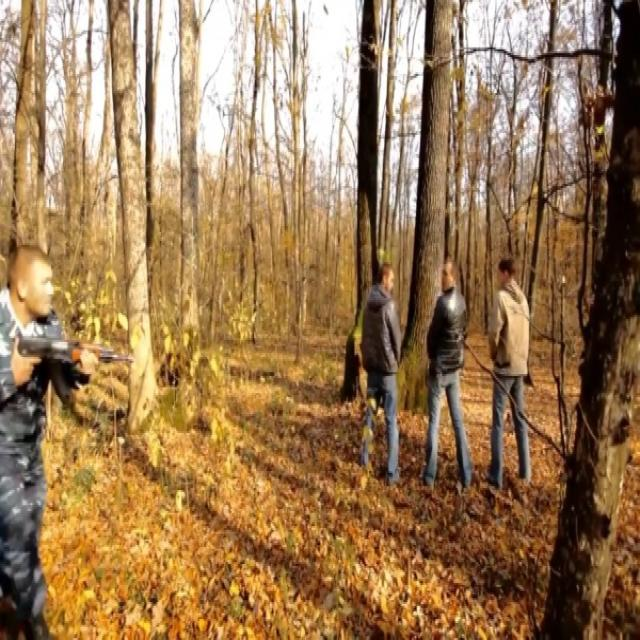rifle: (18, 325, 137, 386)
